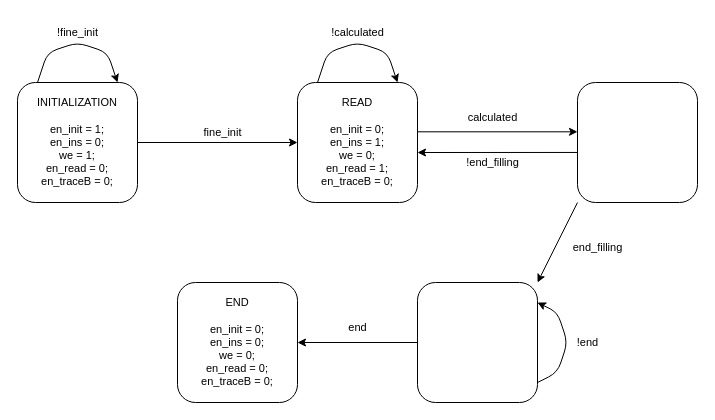
Image size: 715x420. Some labels were removed from this diagram. Here are the shapes that lost their labels. From the top down, the centre of each, then its label:
the point at 637,142: FILLING en_init = 0; en_ins = 1; we = 1; en_read = 1; en_traceB = 0;
the point at 477,342: TRACEBACK en_init = 0; en_ins = 0; we = 0; en_read = 0; en_traceB = 1;
